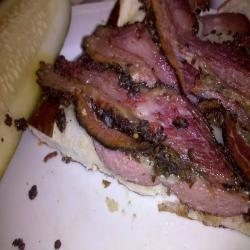burger: (54, 3, 250, 211)
